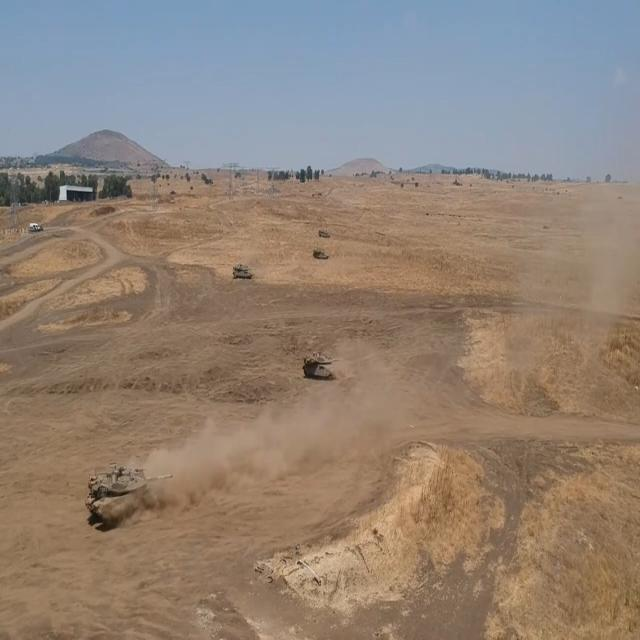tank: (84, 462, 176, 530), (302, 344, 348, 391), (230, 258, 255, 284), (311, 243, 328, 265), (314, 224, 328, 241)
